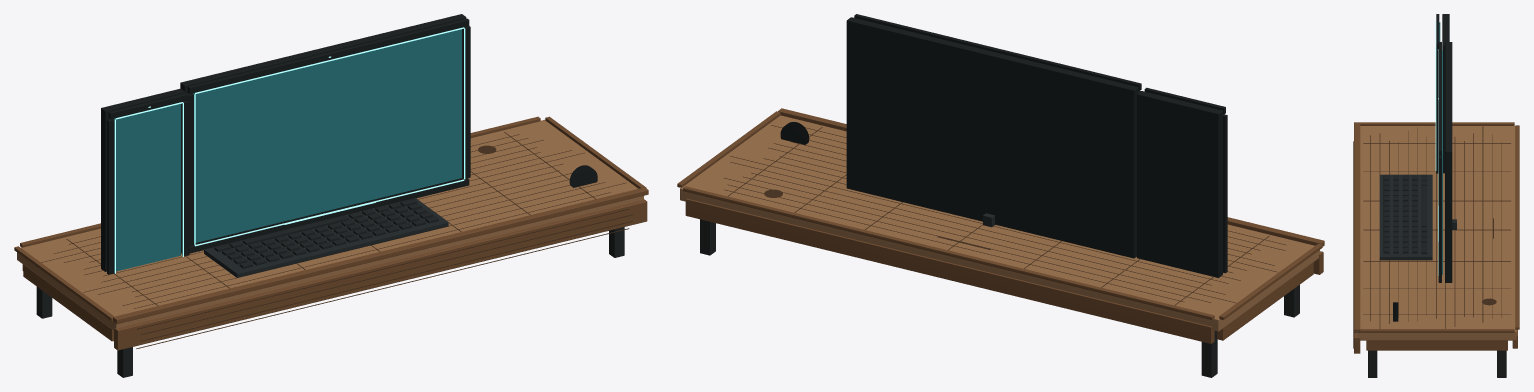
The model's file is kraitos-open-desk.v5.glb.
The picture shows the model from 3 angles, left to right: view 1: azimuth 30°, elevation 25°; view 2: azimuth 150°, elevation 25°; view 3: azimuth 270°, elevation 25°; orthographic projection. The views are drawn at different scales.
Parts seen in each view (by area): view 1: main_monitor_screen_recess, solid_wood_desktop, wood_front_apron, vertical_monitor_screen_recess, wood_front_lip, keyboard_deck, main_monitor_rear_shell, main_monitor_top_bezel, main_monitor_bottom_bezel, vertical_monitor_rear_shell, vertical_monitor_left_bezel, wood_left_apron (+13 smaller); view 2: main_monitor_rear_shell, solid_wood_desktop, vertical_monitor_rear_shell, wood_rear_apron, wood_rear_lip, main_monitor_top_bezel, wood_front_lip, wood_left_apron, wood_left_lip, wood_right_lip, vertical_monitor_left_bezel, desk_steel_leg_-4.35_-0.34 (+7 smaller); view 3: solid_wood_desktop, keyboard_deck, main_monitor_rear_shell, wood_right_apron, wood_front_lip, wood_rear_lip, wood_right_lip, wood_left_lip, vertical_monitor_rear_shell, main_monitor_right_bezel, main_monitor_top_bezel, desktop_long_grain_12 (+15 smaller).
Part boxes in pixels (x1,y1,x2,y2): main_monitor_screen_recess: (193, 27, 461, 242); solid_wood_desktop: (17, 119, 643, 330); wood_front_apron: (114, 199, 647, 350); vertical_monitor_screen_recess: (114, 102, 180, 271); wood_front_lip: (113, 187, 648, 324); keyboard_deck: (204, 198, 448, 277); main_monitor_rear_shell: (180, 14, 466, 244); main_monitor_top_bezel: (188, 18, 469, 93); main_monitor_bottom_bezel: (189, 178, 469, 253); vertical_monitor_rear_shell: (101, 88, 185, 271); vertical_monitor_left_bezel: (107, 119, 114, 274); wood_left_apron: (23, 265, 113, 341); main_monitor_rear_shell: (846, 17, 1138, 258); solid_wood_desktop: (680, 115, 1319, 331); vertical_monitor_rear_shell: (1137, 91, 1222, 277); wood_rear_apron: (685, 198, 1214, 343); wood_rear_lip: (683, 186, 1214, 320); main_monitor_top_bezel: (854, 14, 1141, 90); wood_front_lip: (778, 108, 1324, 246); wood_left_apron: (1217, 262, 1313, 340); wood_left_lip: (1219, 243, 1322, 319); wood_right_lip: (677, 111, 780, 187); vertical_monitor_left_bezel: (1223, 114, 1227, 273); desk_steel_leg_-4.35_-0.34: (1201, 331, 1217, 377); solid_wood_desktop: (1358, 126, 1516, 340); keyboard_deck: (1379, 174, 1432, 260); main_monitor_rear_shell: (1445, 42, 1452, 282); wood_right_apron: (1366, 340, 1507, 350); wood_front_lip: (1354, 122, 1360, 332); wood_rear_lip: (1515, 125, 1519, 329); wood_right_lip: (1359, 329, 1514, 332); wood_left_lip: (1360, 122, 1514, 125); vertical_monitor_rear_shell: (1442, 14, 1449, 173); main_monitor_right_bezel: (1438, 155, 1441, 277); main_monitor_top_bezel: (1438, 42, 1441, 155); desktop_long_grain_12: (1482, 126, 1483, 322).
Size of what is drawn, in the model's own units: 9.48 by 3.9 by 3.19.
